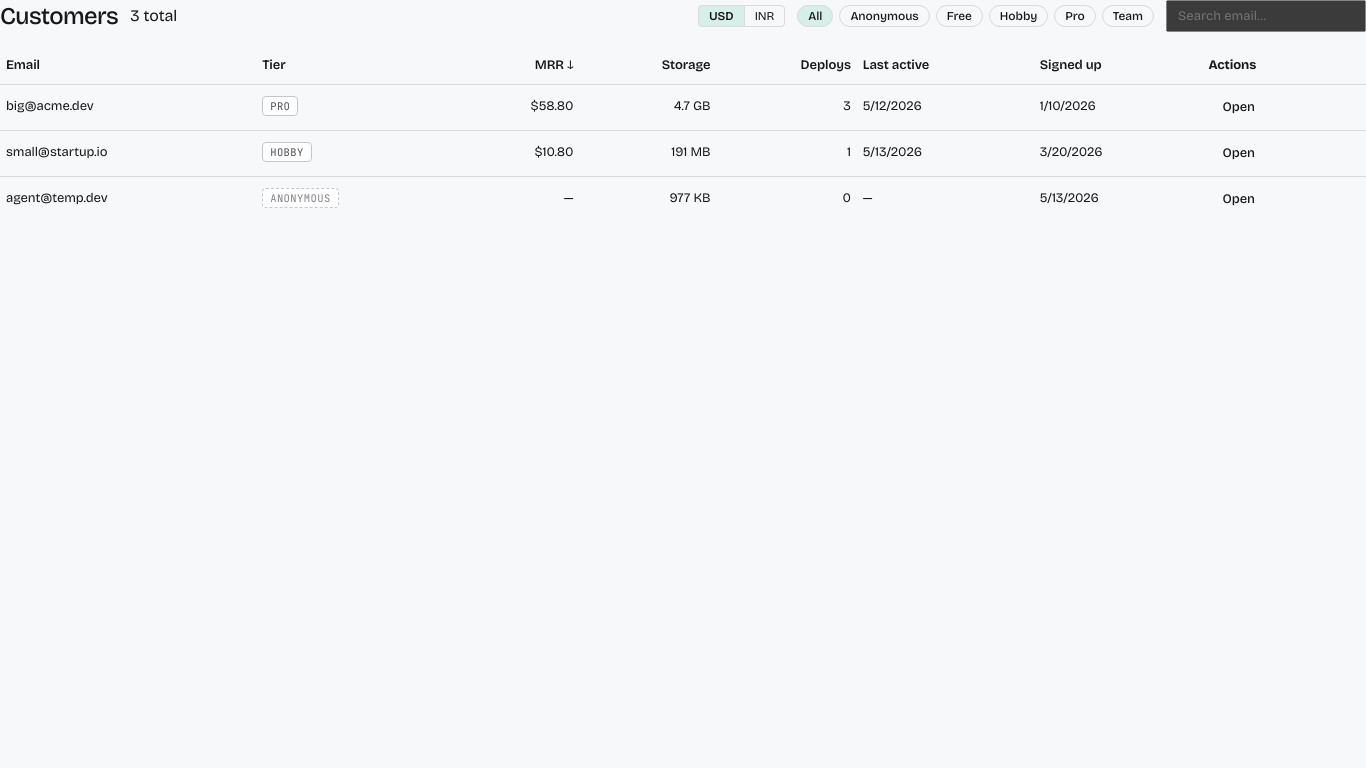
Test: AdminCustomersPage — drawer › clicking a row opens the drawer for that customer
The image size is (1366, 768).
Click the row with test id "admin-customer-row-t_big" at (683, 107), box x1=0 y1=84 x2=1365 y2=130
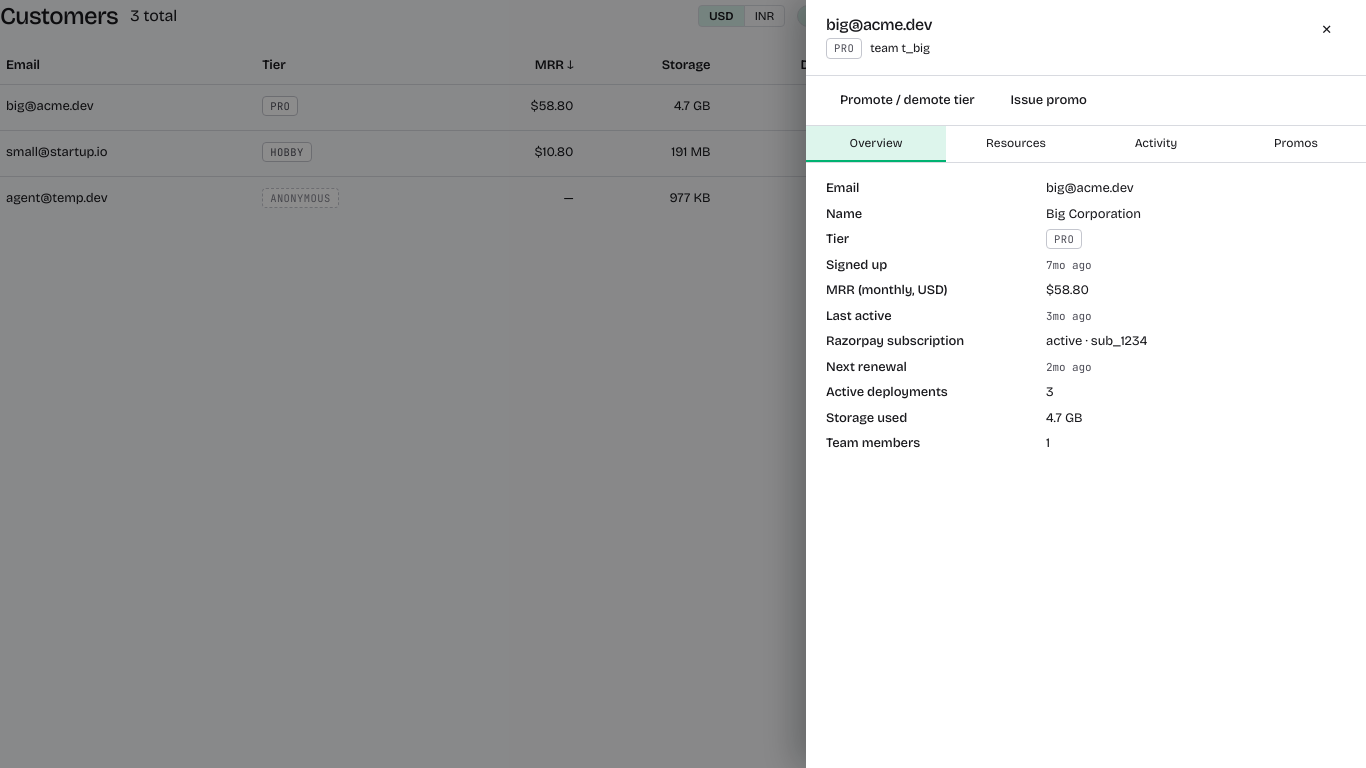
Expected: the dialog with test id "customer-drawer" is shown, x1=806 y1=0 x2=1365 y2=767
Expected: the heading with test id "drawer-email" reads "big@acme.dev", x1=826 y1=15 x2=932 y2=34
